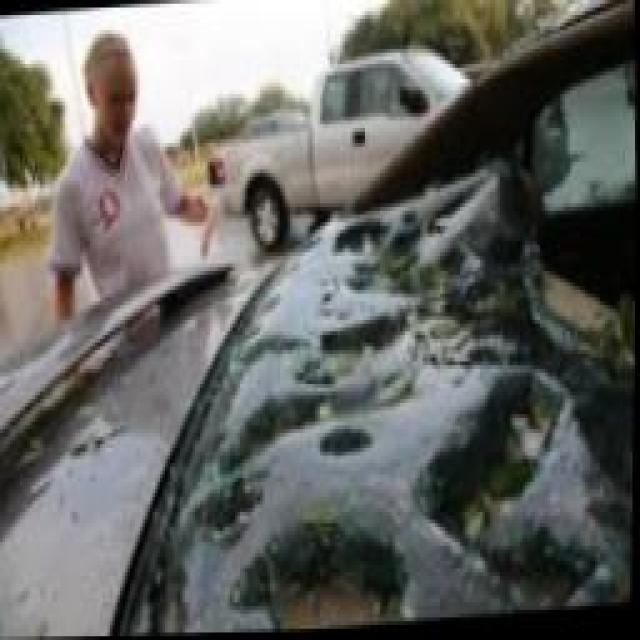Windshield: (114, 15, 636, 637)
